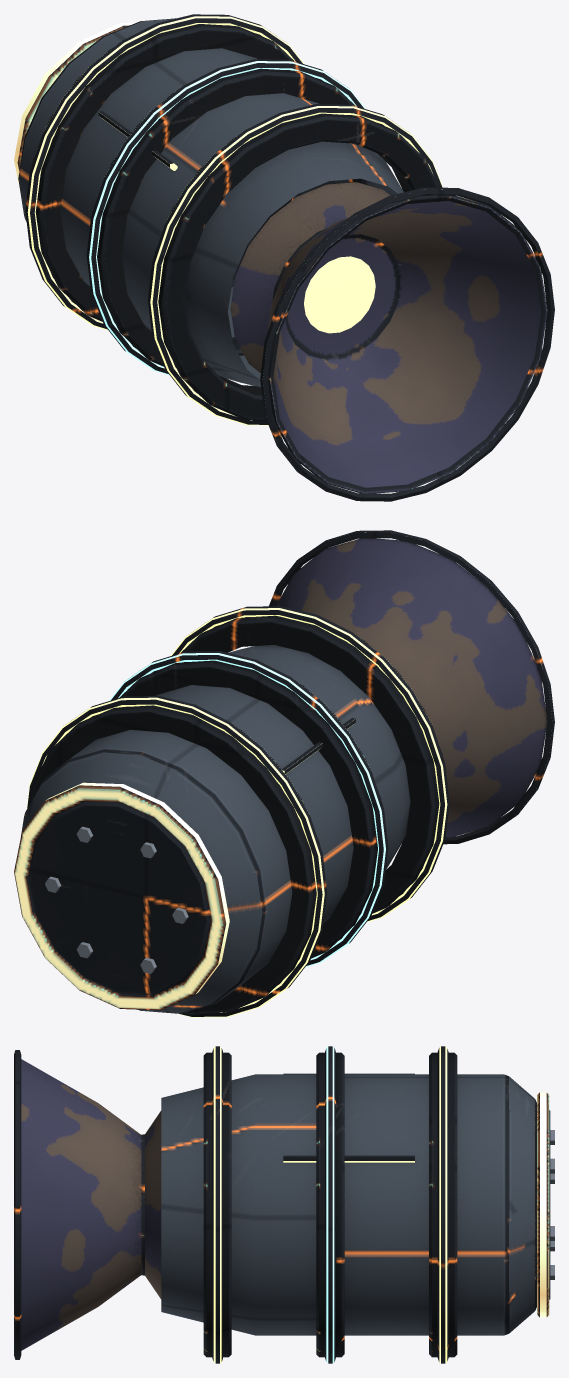
The model's file is motor_plasma_t3.fbx.
3 views of the same model, one above another, from view 1: azimuth 30°, elevation 25°; view 2: azimuth 150°, elevation 25°; view 3: azimuth 270°, elevation 25° (orthographic). The views are drawn at different scales.
Parts seen in each view (by area): view 1: motor_plasma_t3, motor_plasma_t3_neon, motor_plasma_t3_neon2; view 2: motor_plasma_t3, motor_plasma_t3_neon, motor_plasma_t3_neon2; view 3: motor_plasma_t3, motor_plasma_t3_neon, motor_plasma_t3_neon2.
Boxes of the visible parts, bbox=[...] form: motor_plasma_t3: bbox=[14, 14, 554, 501]; motor_plasma_t3_neon: bbox=[27, 16, 442, 425]; motor_plasma_t3_neon2: bbox=[89, 61, 442, 375]; motor_plasma_t3: bbox=[14, 530, 554, 1016]; motor_plasma_t3_neon: bbox=[26, 608, 447, 1017]; motor_plasma_t3_neon2: bbox=[109, 532, 447, 967]; motor_plasma_t3: bbox=[14, 1046, 554, 1363]; motor_plasma_t3_neon: bbox=[213, 1046, 447, 1363]; motor_plasma_t3_neon2: bbox=[326, 1046, 334, 1363].
Bounding box in the file's own units: 3.39 × 3.36 × 5.76.
